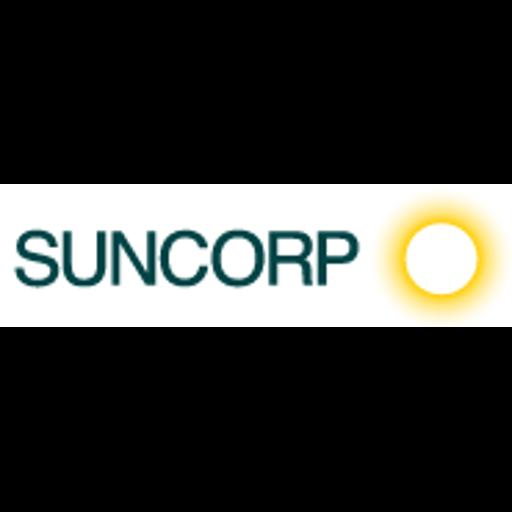Suncorp Group: (0, 184, 512, 327)
